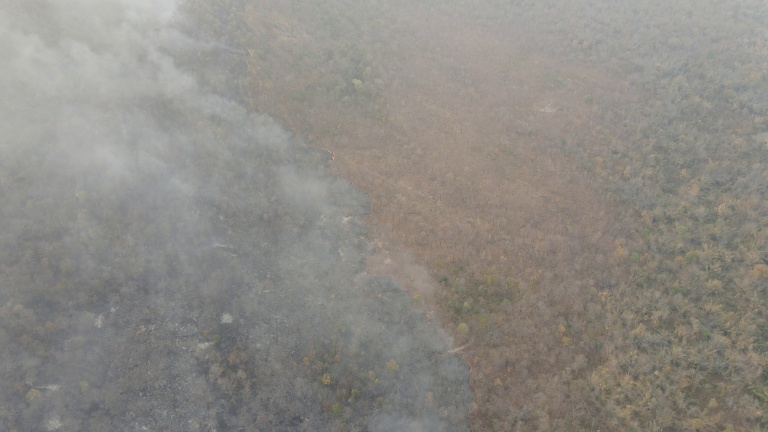smoke: (1, 1, 476, 428)
